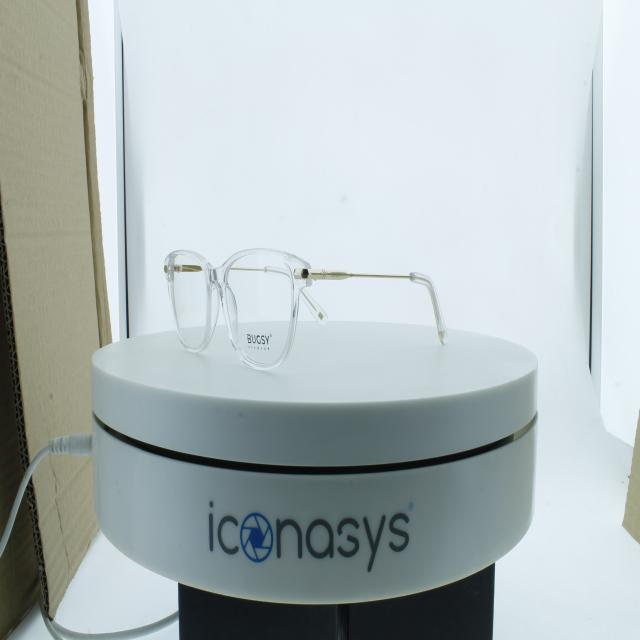Specs: (157, 238, 456, 378)
